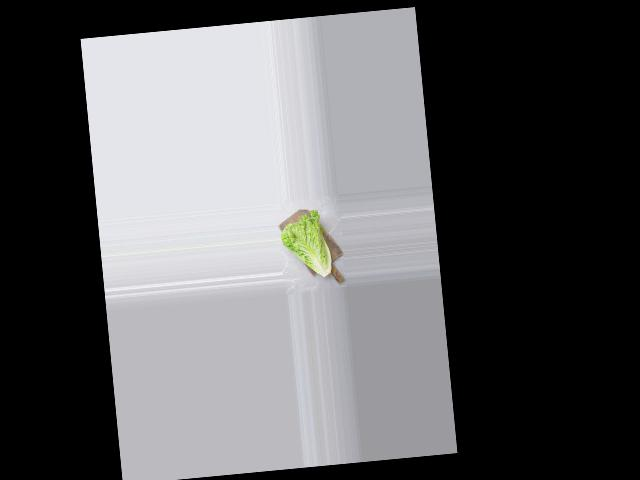lettuce: (279, 208, 340, 283)
